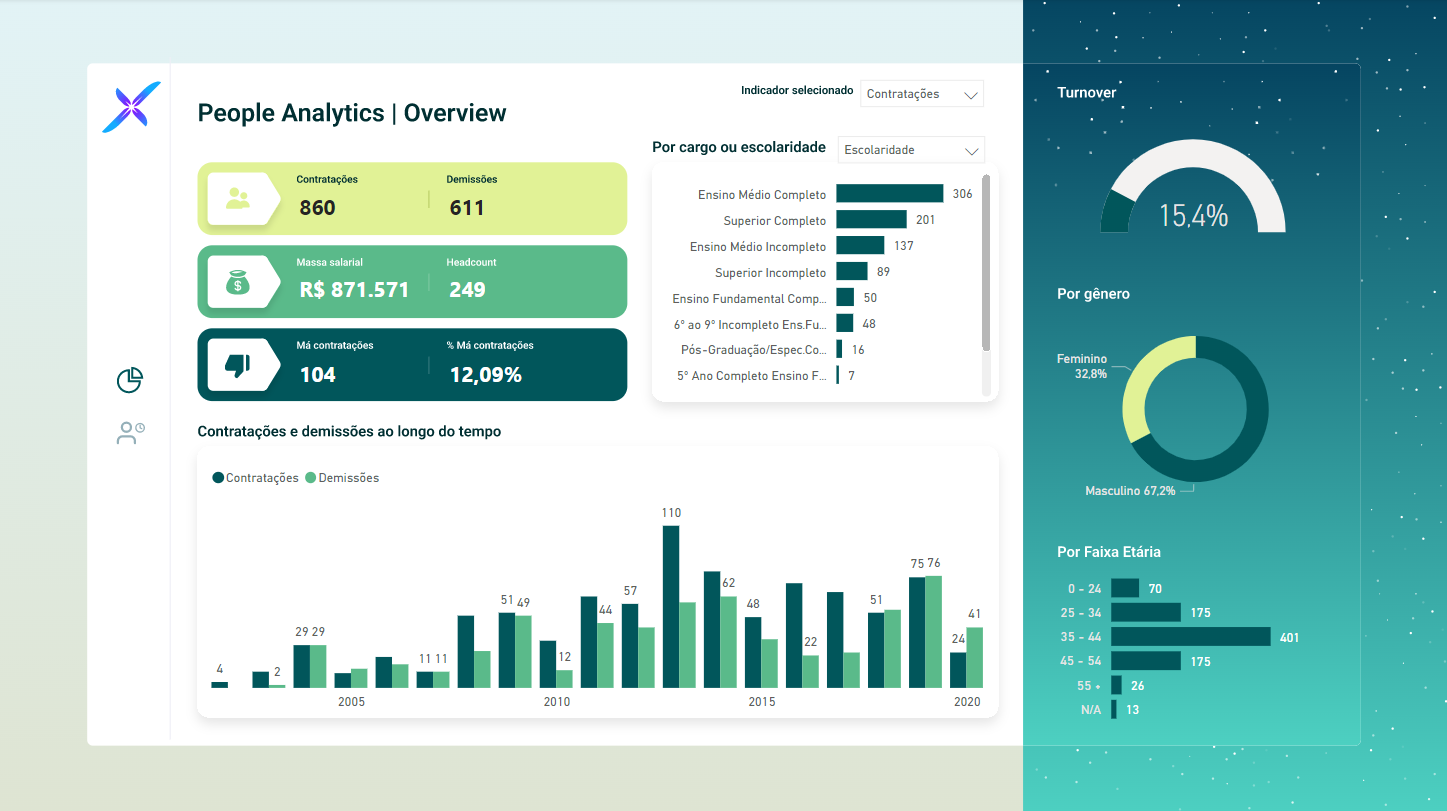

Layout of this report page (visuals, bound fields, positions):
{"tool":"powerbi","page":{"name":"Overview","canvas":[1280,720],"ordinal":0},"visuals":[{"type":"multiRowCard","fields":{"Values":["Medidas.Contratações"]},"box":[261.4,165.6,107.8,43.1],"z":0},{"type":"multiRowCard","fields":{"Values":["Medidas.Demissões"]},"box":[393.3,165.6,120.8,43.1],"z":1000},{"type":"multiRowCard","fields":{"Values":["Medidas.Massa Salarial"]},"box":[261.4,238.9,115.6,42.3],"z":2000},{"type":"multiRowCard","fields":{"Values":["Medidas.Headcount"]},"box":[393.3,238.9,119,43.1],"z":3000},{"type":"multiRowCard","fields":{"Values":["Medidas.Má Contratações"]},"box":[261.4,313.1,120.8,42.3],"z":4000},{"type":"multiRowCard","fields":{"Values":["Medidas.% Má Contratações"]},"box":[393.3,313.1,120.8,42.3],"z":5000},{"type":"gauge","fields":{"Y":["Medidas.% Turnover Ano Max"]},"box":[966.5,83.8,172.9,163],"z":6000},{"type":"clusteredColumnChart","title":"Análise Temporal","fields":{"Y":["Medidas.Contratações","Medidas.Demissões"],"Category":["dCalendario.Ano","dCalendario.Mês"]},"box":[184.8,402.3,687.9,231.3],"z":7000},{"type":"barChart","title":"Por Cargo","fields":{"Y":["Medidas.Headcount"],"Category":["fContratos.Cargo Resumido"]},"box":[577.9,142.3,301.9,213.9],"z":8000},{"type":"barChart","title":"Por Faixa Etária","fields":{"Y":["Medidas.Headcount"],"Category":["dFuncionario.Faixa Etária"]},"box":[929,489.7,266.3,158.3],"z":9000},{"type":"donutChart","fields":{"Y":["Medidas.Headcount"],"Category":["dFuncionario.Sexo"]},"box":[928.3,267.8,254.7,186.8],"z":11000},{"type":"basicShape","box":[57.8,0,54.9,54.9],"z":12000},{"type":"actionButton","box":[101.5,311.4,30,30],"z":16000},{"type":"actionButton","box":[101.2,369.3,37.3,31.1],"z":17000},{"type":"slicer","fields":{"Values":["MedidaDinamica.MedidaDinamica"]},"box":[750.1,61.2,129.6,43.5],"z":21000},{"type":"slicer","fields":{"Values":["EixoDinamico.EixoDinamico"]},"box":[729.6,111,150,42.6],"z":22000}]}

Visuals, with their boxes in screenshot pixels (x1, y1, x2, y2), scaled from the page's 1280x720 canvas onto the 1447x811 screenshot:
multiRowCard - Medidas.Contratações: rect(296, 187, 417, 235)
multiRowCard - Medidas.Demissões: rect(445, 187, 581, 235)
multiRowCard - Medidas.Massa Salarial: rect(296, 269, 426, 317)
multiRowCard - Medidas.Headcount: rect(445, 269, 579, 318)
multiRowCard - Medidas.Má Contratações: rect(296, 353, 432, 400)
multiRowCard - Medidas.% Má Contratações: rect(445, 353, 581, 400)
gauge - Medidas.% Turnover Ano Max: rect(1093, 94, 1288, 278)
"Análise Temporal" clusteredColumnChart: rect(209, 453, 987, 714)
"Por Cargo" barChart: rect(653, 160, 995, 401)
"Por Faixa Etária" barChart: rect(1050, 552, 1351, 730)
donutChart - Medidas.Headcount x dFuncionario.Sexo: rect(1049, 302, 1337, 512)
basicShape: rect(65, 0, 127, 62)
actionButton: rect(115, 351, 149, 385)
actionButton: rect(114, 416, 157, 451)
slicer - MedidaDinamica.MedidaDinamica: rect(848, 69, 994, 118)
slicer - EixoDinamico.EixoDinamico: rect(825, 125, 994, 173)
